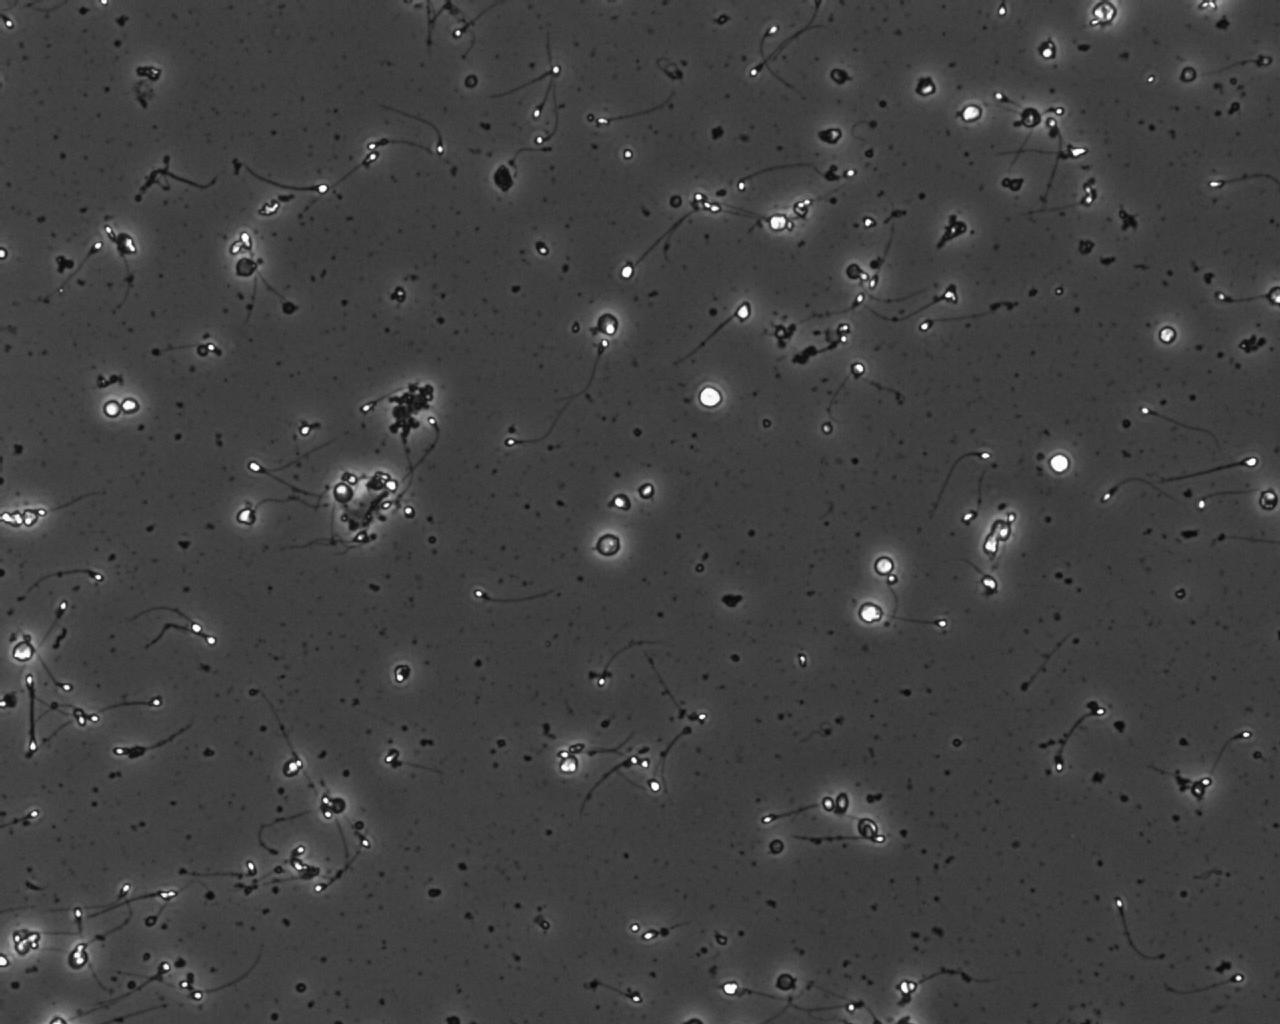cell: (853, 598, 888, 629), (592, 529, 625, 561), (694, 382, 727, 412), (489, 161, 517, 195), (1088, 0, 1121, 28), (111, 228, 140, 259), (1015, 103, 1045, 133), (594, 309, 623, 340), (328, 478, 357, 508), (8, 637, 38, 667), (1045, 449, 1075, 478), (854, 813, 882, 843), (956, 101, 987, 127), (232, 254, 262, 280), (1154, 322, 1182, 349), (870, 552, 898, 580), (1254, 486, 1280, 515), (99, 395, 126, 422), (117, 393, 144, 418), (459, 70, 482, 93)
